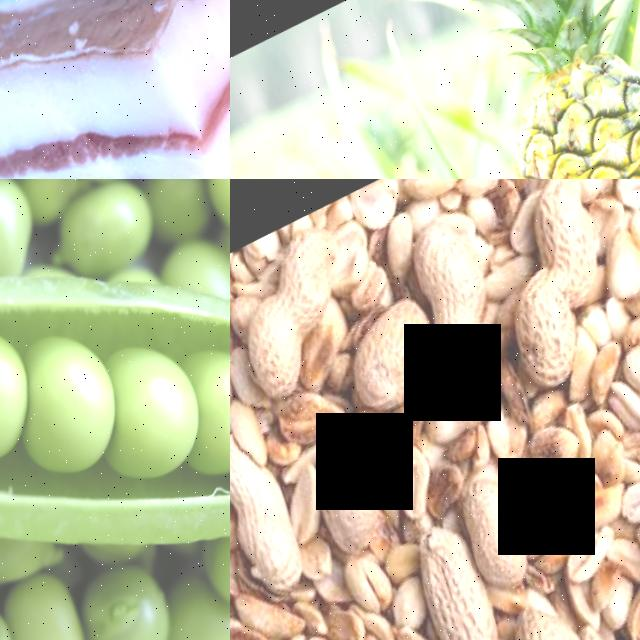peanuts: (380, 209, 545, 428), (486, 256, 616, 407), (399, 513, 538, 640), (331, 290, 460, 424), (230, 450, 336, 612), (507, 179, 630, 316), (244, 216, 369, 349), (447, 465, 560, 606), (505, 596, 634, 640)
peas: (0, 263, 160, 573), (85, 256, 230, 574), (0, 511, 159, 640)
pineapple: (407, 0, 640, 179)
